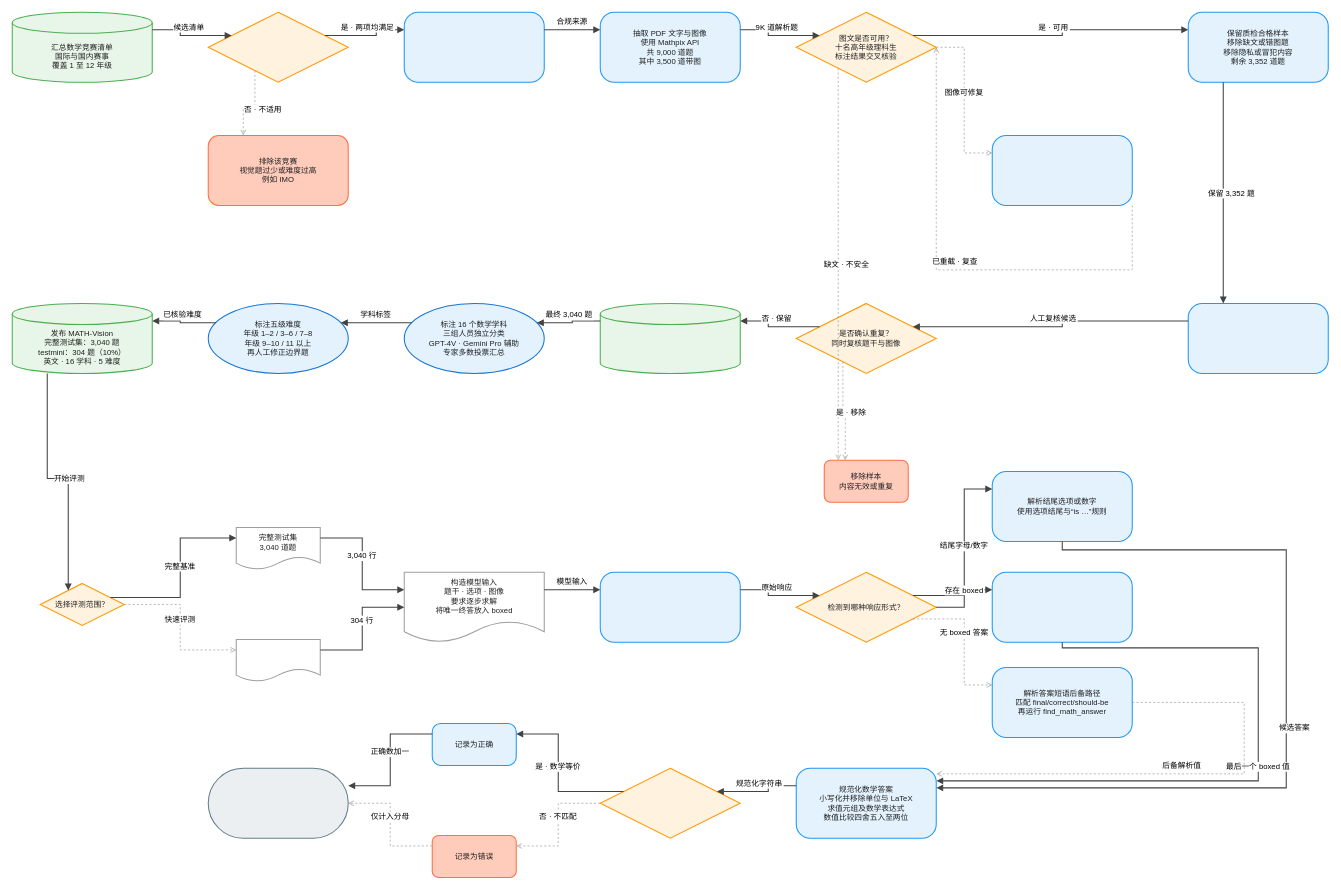
The diagram is 1341 pixels wide and 890 high, and some of its shapes have lost their labels. Each missing label, with the box of its shape:
testmini 304 道题: (235, 639, 320, 682)
从原文件重新截取图像 修复不完整或错位 再次检查图文对齐: (991, 135, 1132, 206)
冻结策展后的 MATH-V 共 3,040 道题 1,532 道选择题 1,508 道自由回答题: (599, 303, 740, 374)
报告准确率 总体 · 16 学科 · 5 难度 正确数 / 全部评测行: (207, 767, 348, 838)
是否等于标准答案？ 答案字母或对应选项文本 空答案永不匹配: (599, 767, 740, 838)
生成模型响应 解码配置取决于模型 按题目 ID 保存响应: (599, 571, 740, 642)
竞赛是否适用？ 经常使用视觉输入 可按层级划分题目: (207, 11, 348, 82)
筛查潜在重复题 词汇重叠 Levenshtein 距离 人工复核: (1187, 303, 1328, 374)
解析 boxed 答案 多个 boxed 时取最后一个: (991, 571, 1132, 642)
选定 19 项竞赛 在线筛选带图题目 遵守版权与许可 优先答案不易检索的题: (403, 11, 544, 82)
